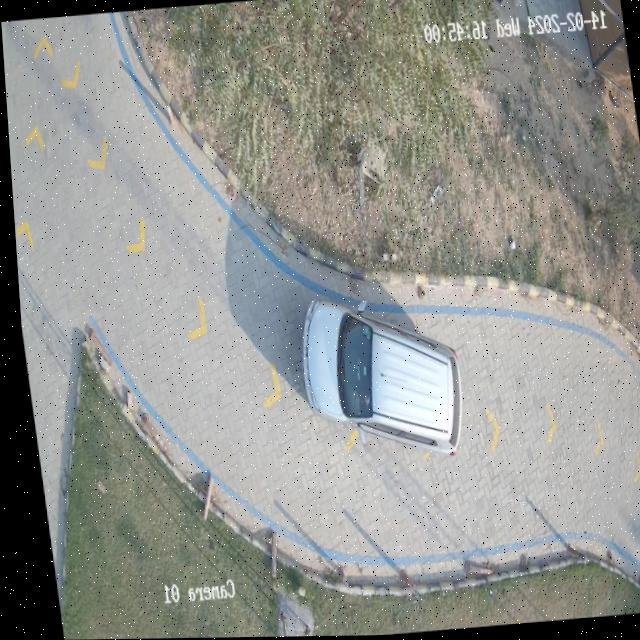car: (297, 303, 455, 456)
